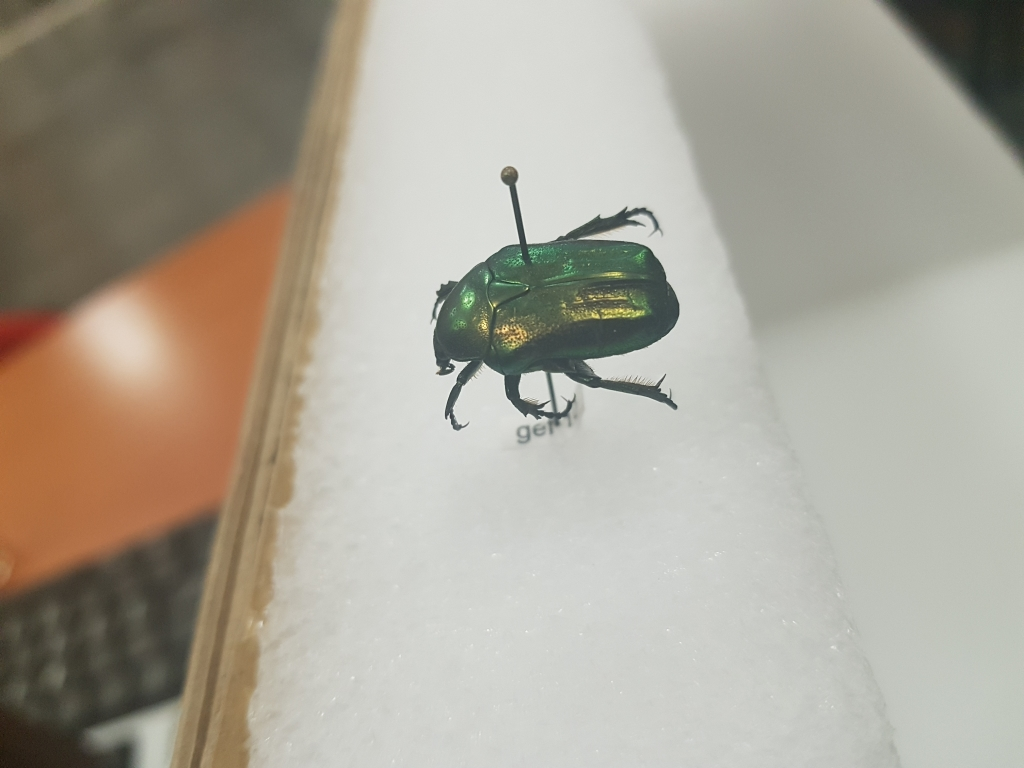Cetonia_aurata: (414, 198, 694, 434)
